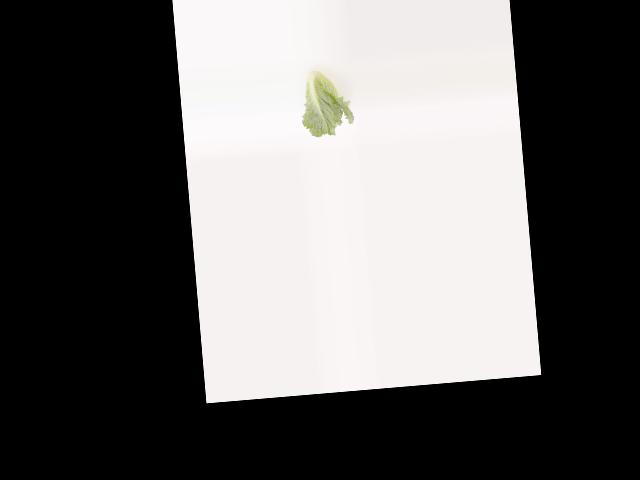lettuce: (295, 60, 353, 140)
